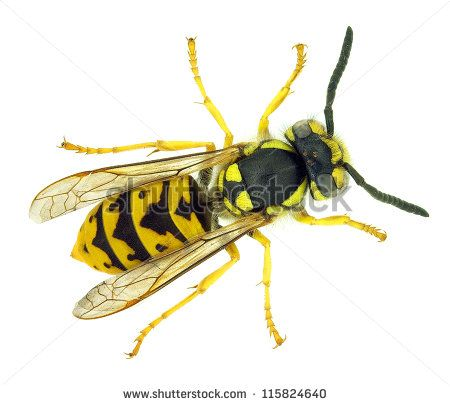chax: (25, 16, 438, 364)
